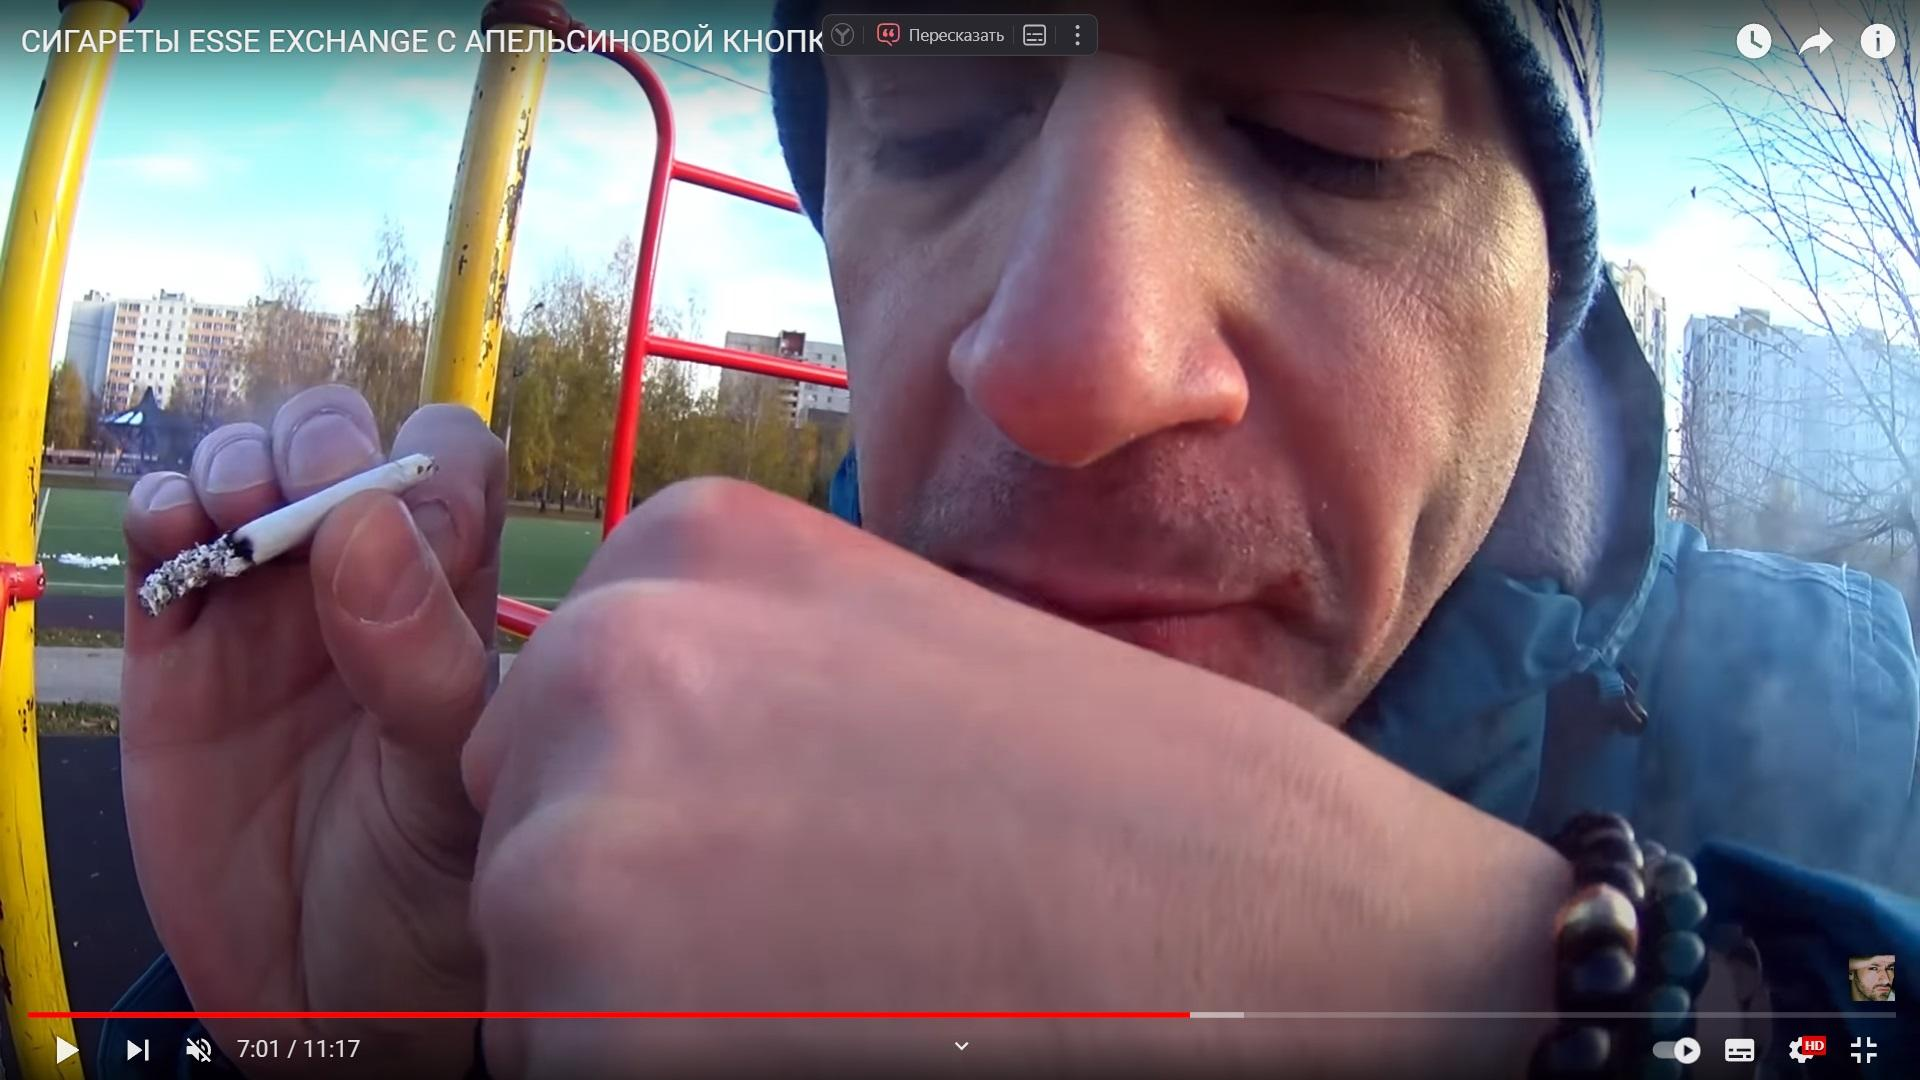cigarette: (138, 454, 435, 613)
